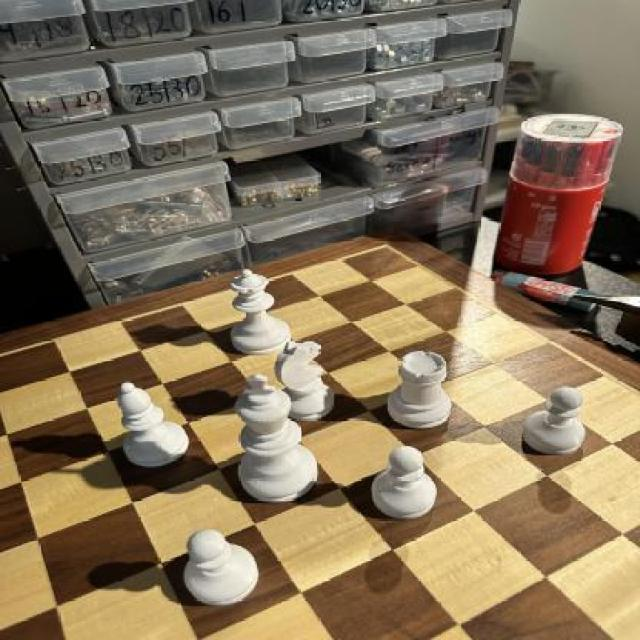black-rook: (108, 380, 196, 473)
white-bishop: (237, 375, 328, 508)
white-king: (272, 343, 340, 423)
white-knight: (178, 531, 268, 611), (371, 443, 446, 524), (521, 385, 597, 459)
white-pawn: (224, 272, 298, 366)
white-queen: (383, 351, 459, 433)
